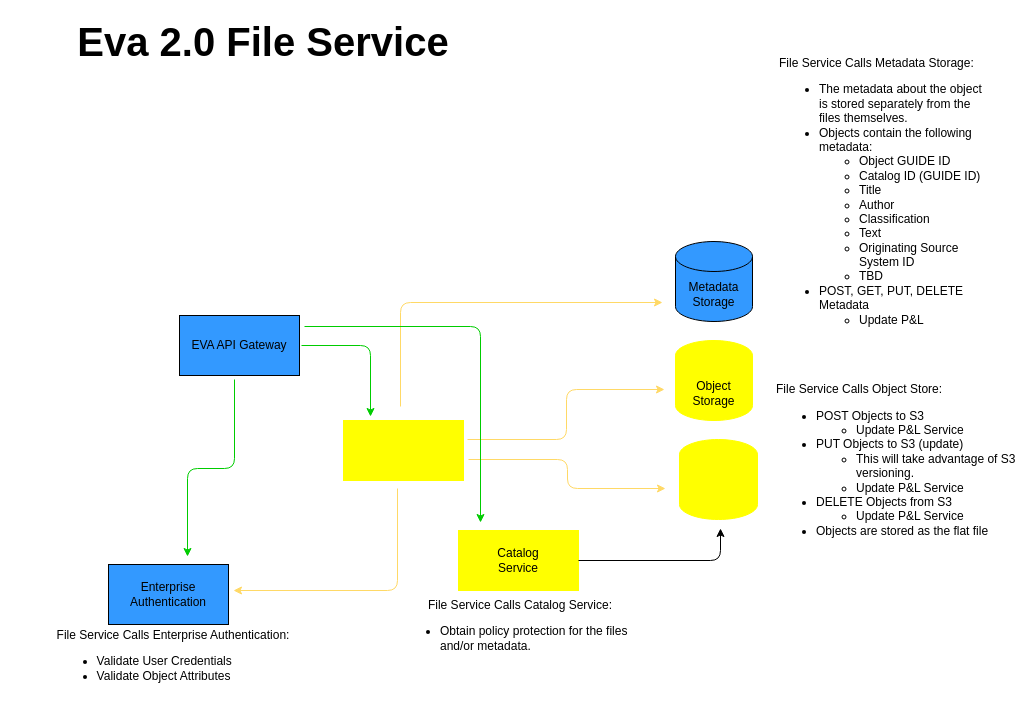
Image size: 1034x712. Some labels were removed from this diagram. The centre of each missing label's shape, as x and y in pixels:
"Catalog Storage" belongs at (718,479).
"File Service*" belongs at (403,450).
